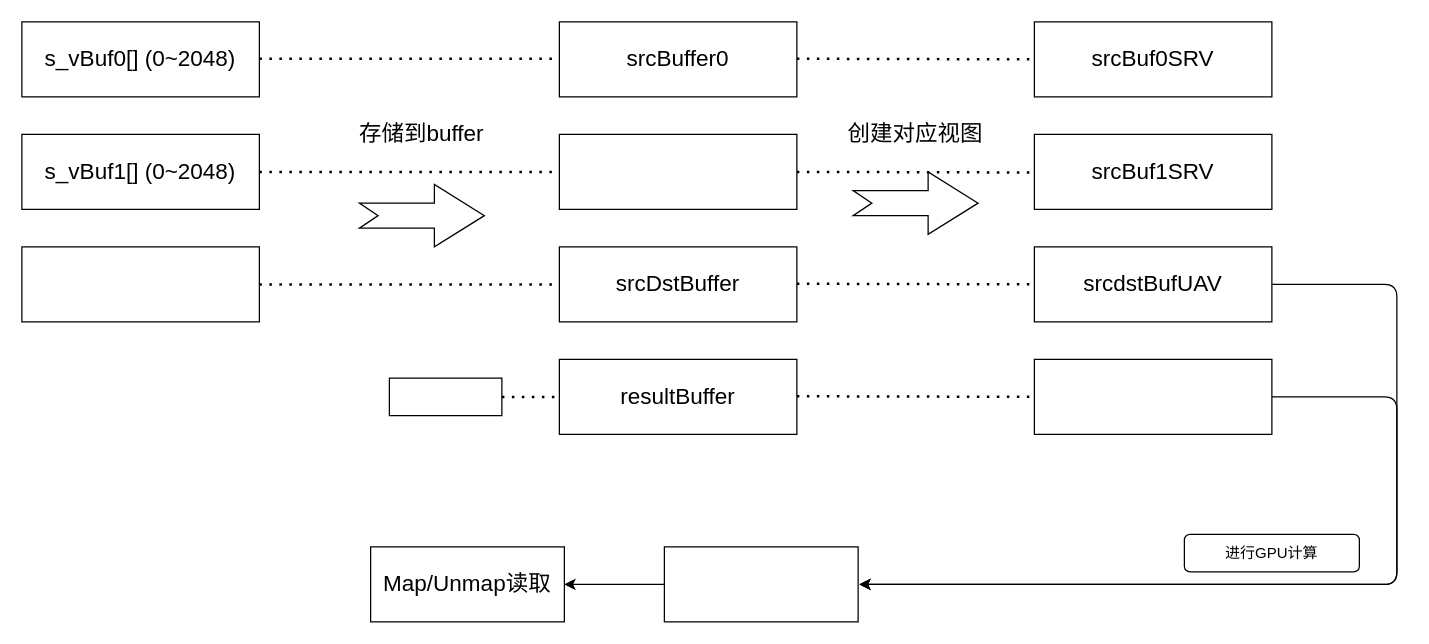
The diagram is 1429 pixels wide and 644 high, and some of its shapes have lost their labels. The centre of each missing label's shape, as x and y in pixels:
"CopyResource" belongs at point 760,584.
"localBuffer (1~2049)" belongs at point 140,284.
"nullptr" belongs at point 445,396.
"resBufUAV" belongs at point 1152,396.
"srcBuffer1" belongs at point 677,171.
